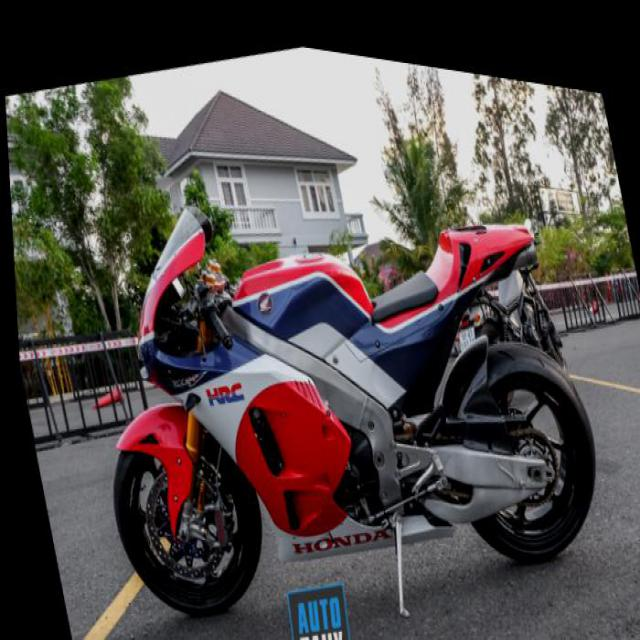HRC RCV 213: (48, 67, 619, 639)
